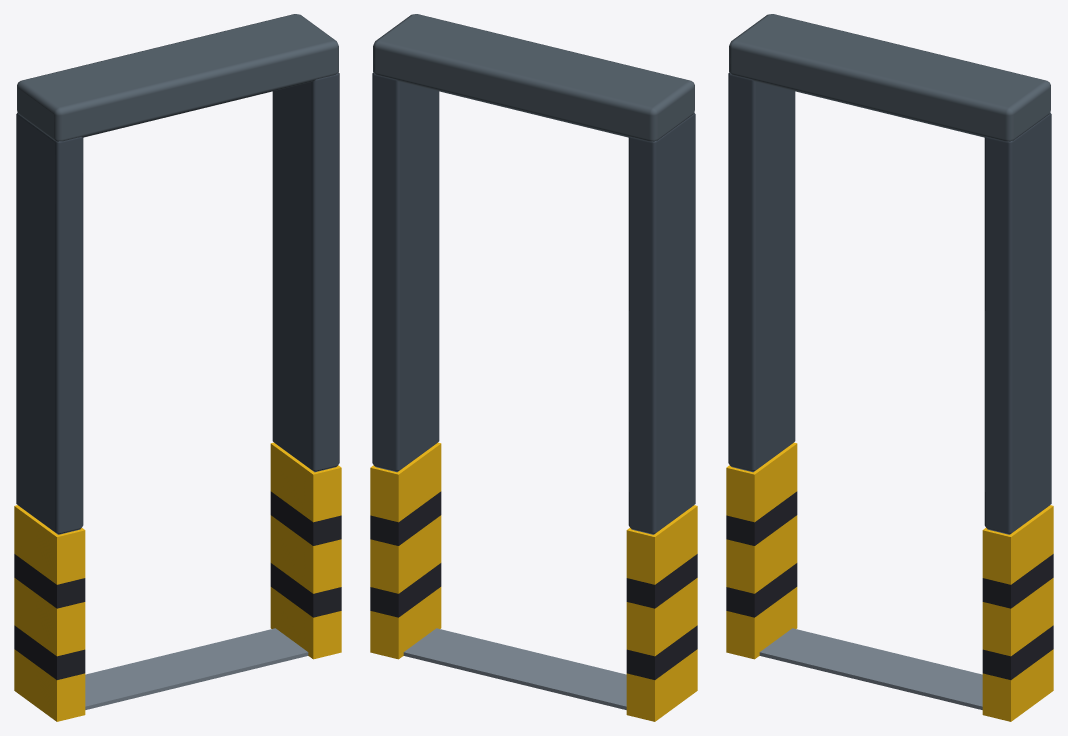
File: wand_halb_tuer.glb
3 views of the same model, side by side, from view 1: azimuth 30°, elevation 25°; view 2: azimuth 150°, elevation 25°; view 3: azimuth 330°, elevation 25° (orthographic).
Parts seen in each view (by area): view 1: wand_halb_tuer; view 2: wand_halb_tuer; view 3: wand_halb_tuer.
Boxes of the visible parts, x1,y1,x2,y2 form: wand_halb_tuer: (14,14,341,721); wand_halb_tuer: (370,14,697,721); wand_halb_tuer: (726,14,1053,721).
Size of the model in its own units: 1 by 2.05 by 0.26.
